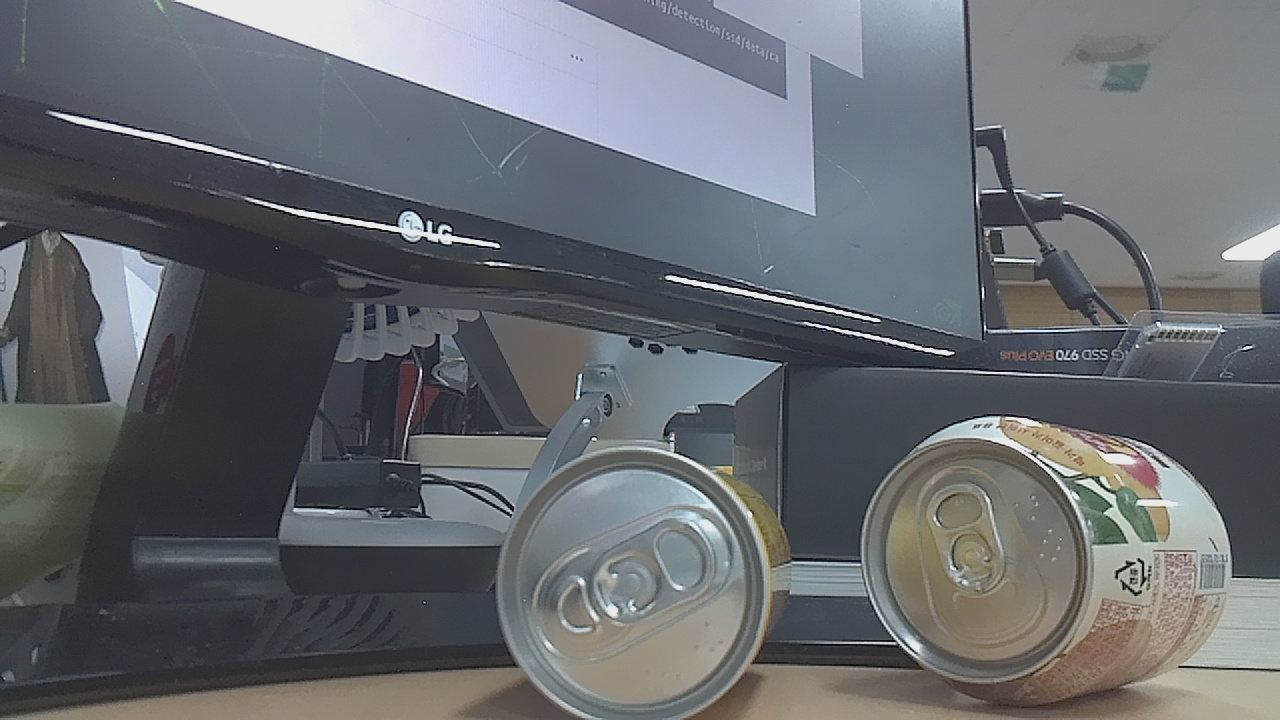IdH (pear juice): (862, 406, 1243, 718)
jetty: (466, 441, 831, 720)
